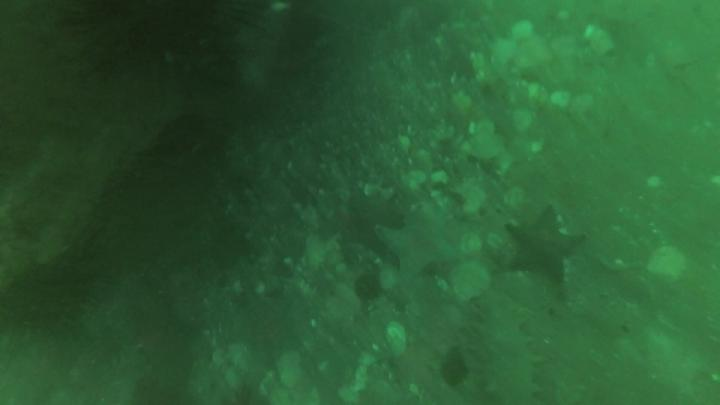echinus: (73, 1, 236, 74)
holothurian: (471, 300, 542, 405)
scallop: (452, 265, 492, 301)
starfish: (506, 206, 584, 285), (376, 205, 454, 278)
